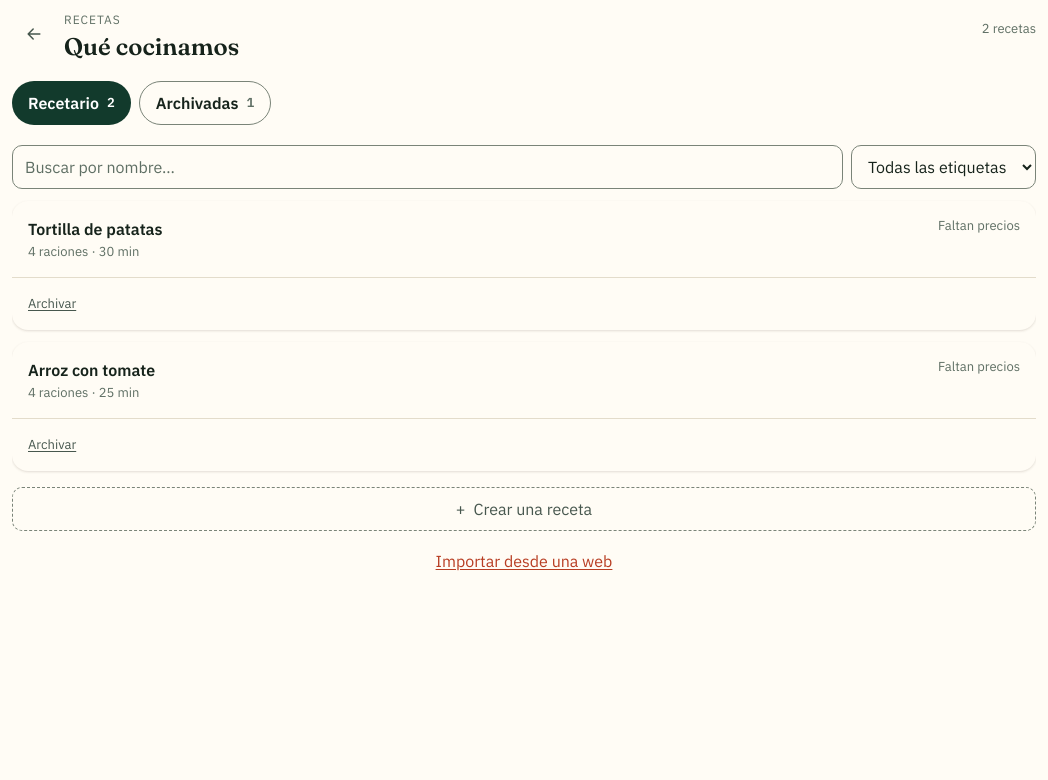
Scenario: Recetario · la cabecera, las pestanas y las tarjetas › *** el buscador filtra por nombre sin inventarse resultados ***
The width and height of the screenshot is (1048, 780).
Expected: the heading "Qué cocinamos" is shown, top-left (64, 32), bottom-right (239, 61)
In the search field named "Buscar recetas por nombre": coordinates (428, 167) top-left (12, 145), bottom-right (843, 189), type "arroz"
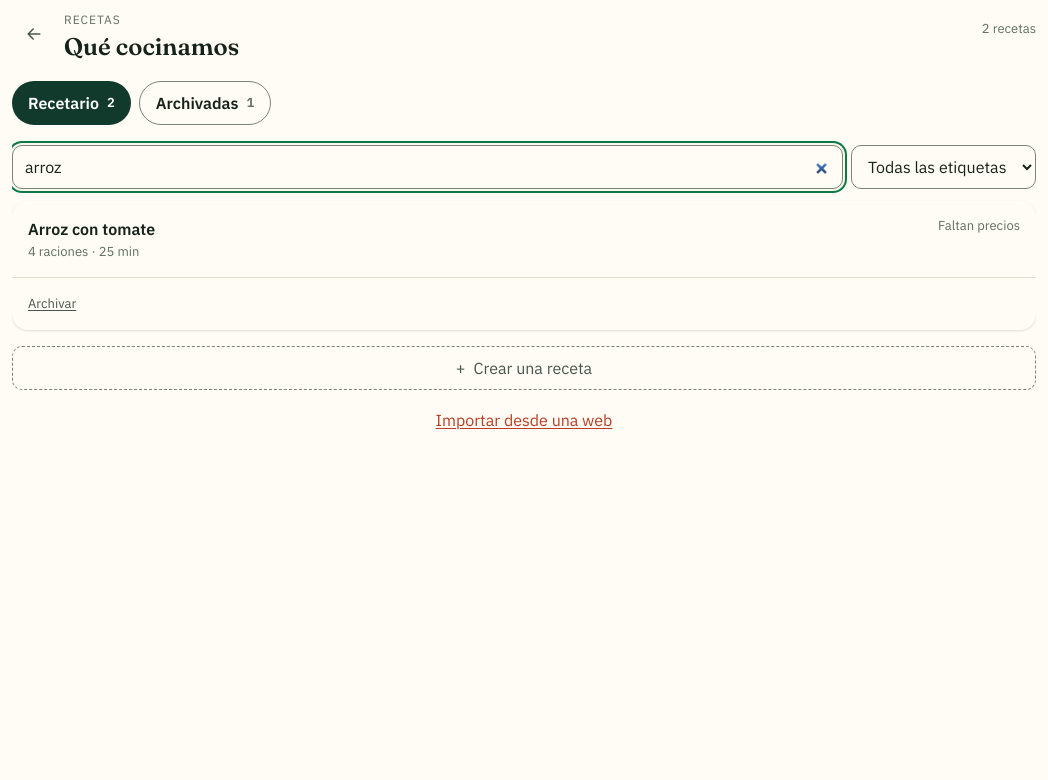
Expected: the link "Arroz con tomate" is shown, top-left (28, 217), bottom-right (1020, 260)
Expected: the link "Tortilla de patatas" is gone
